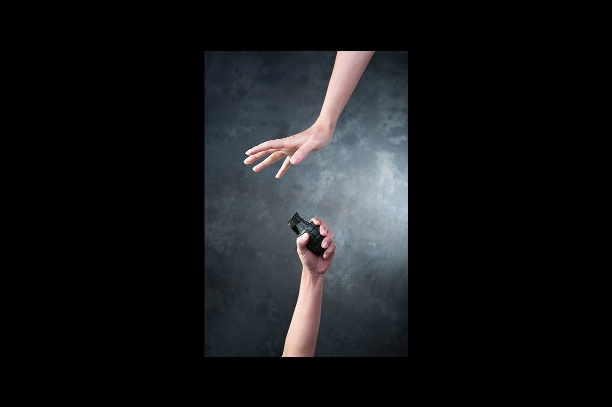e1: (285, 211, 334, 256)
